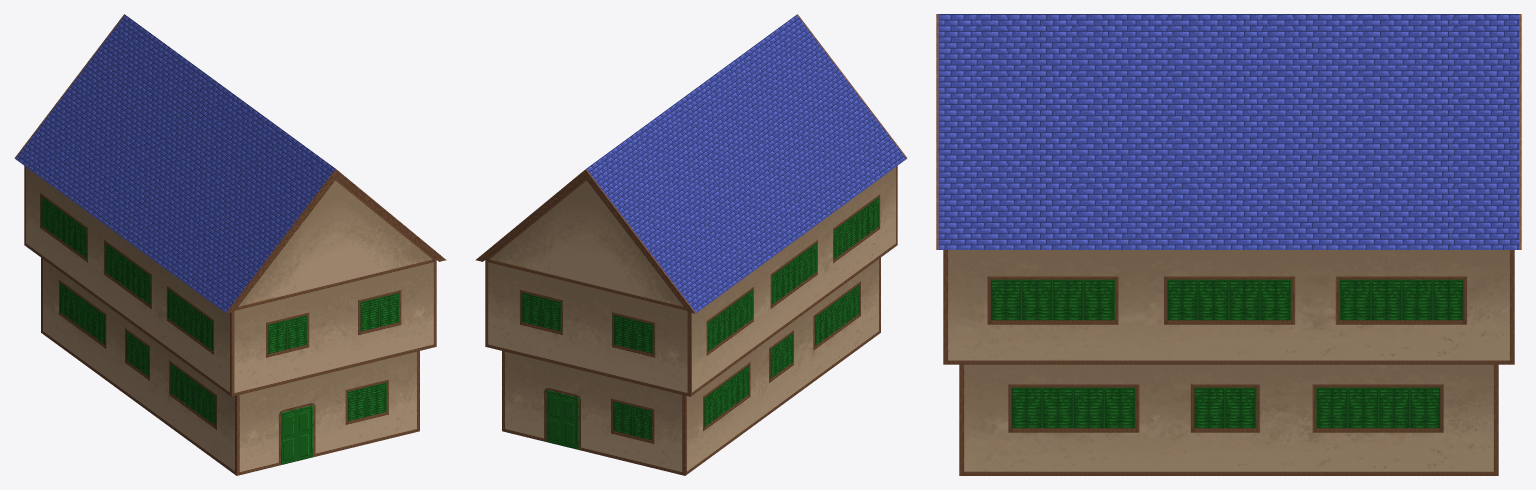
File: House 1.fbx
The picture shows the model from 3 angles, left to right: view 1: azimuth 30°, elevation 25°; view 2: azimuth 150°, elevation 25°; view 3: azimuth 270°, elevation 25°; orthographic projection. The views are drawn at different scales.
Visible parts, largest first — view 1: Cube; view 2: Cube; view 3: Cube.
Boxes of the visible parts, x1,y1,x2,y2 form: Cube: [14, 14, 446, 475]; Cube: [475, 14, 907, 475]; Cube: [936, 14, 1521, 475].
Bounding box in the file's own units: 492 × 621 × 823.
